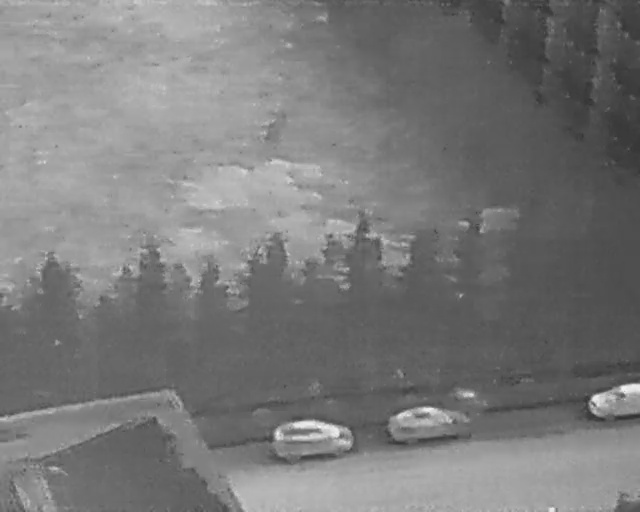Car: (385, 402, 472, 445), (274, 418, 355, 462), (590, 386, 639, 421)
